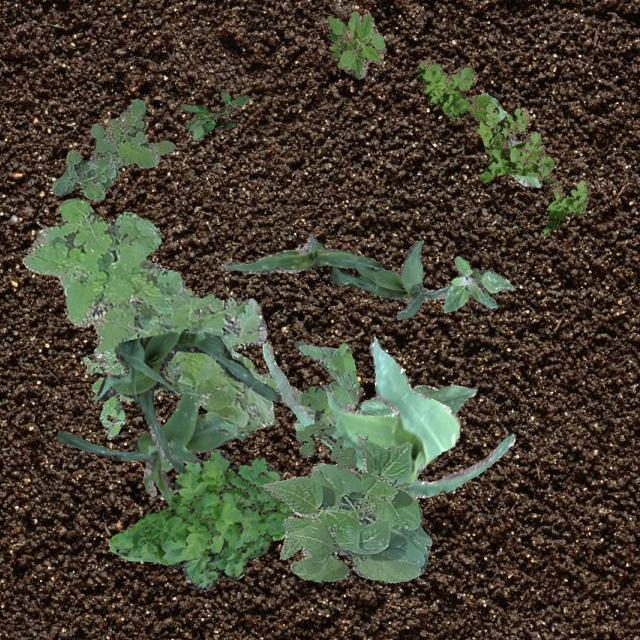crop: (262, 336, 514, 497), (96, 328, 280, 472), (260, 434, 432, 582), (55, 388, 246, 504), (328, 238, 450, 318), (218, 234, 380, 272), (480, 92, 540, 186), (356, 382, 476, 414)
weed: (21, 198, 272, 434), (416, 59, 590, 234), (108, 448, 294, 590), (50, 99, 174, 200), (260, 340, 358, 430), (294, 384, 356, 468), (442, 254, 514, 312), (326, 11, 386, 78), (82, 356, 124, 438), (180, 90, 248, 140)
